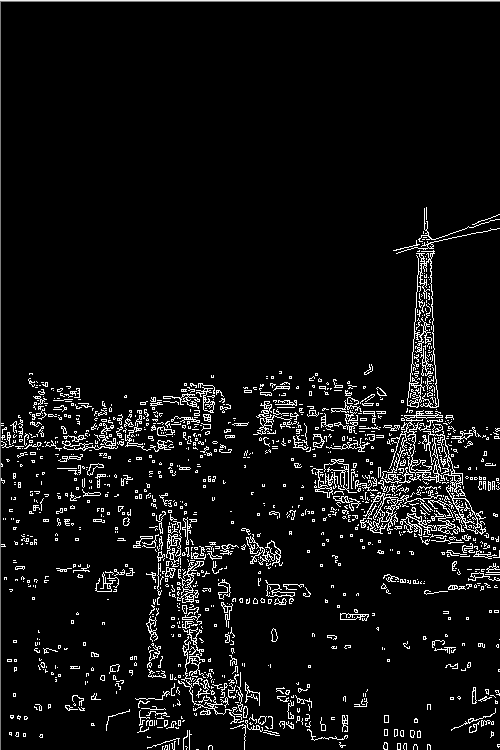eiffel tower: (335, 178, 487, 535)
